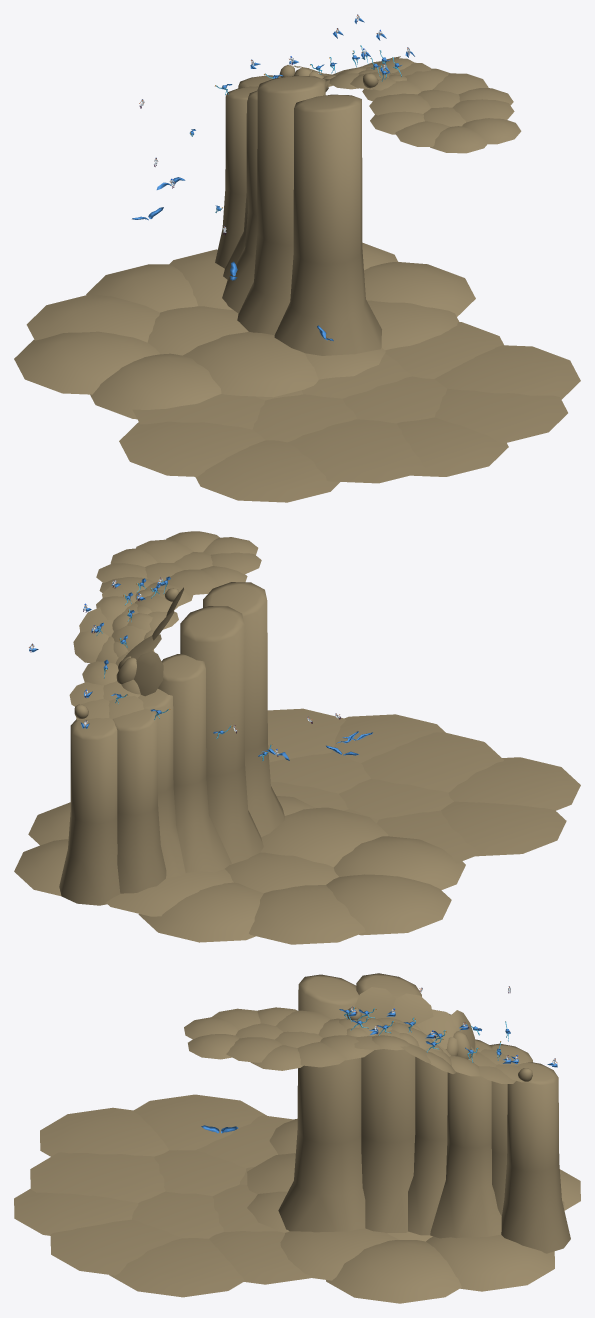
File: BirdRaceBlockout_004.gltf
3 renders of one model, top to bottom at view 1: azimuth 30°, elevation 25°; view 2: azimuth 150°, elevation 25°; view 3: azimuth 270°, elevation 25°, orthographic. The views are drawn at different scales.
Visible parts, largest first — view 1: Terrain.001; view 2: Terrain.001; view 3: Terrain.001.
Part boxes in pixels (x1,y1,x2,y2): Terrain.001: (14, 56, 580, 502); Terrain.001: (14, 531, 580, 944); Terrain.001: (14, 973, 580, 1303).
Size of the model in its own units: 124 by 75.32 by 144.
